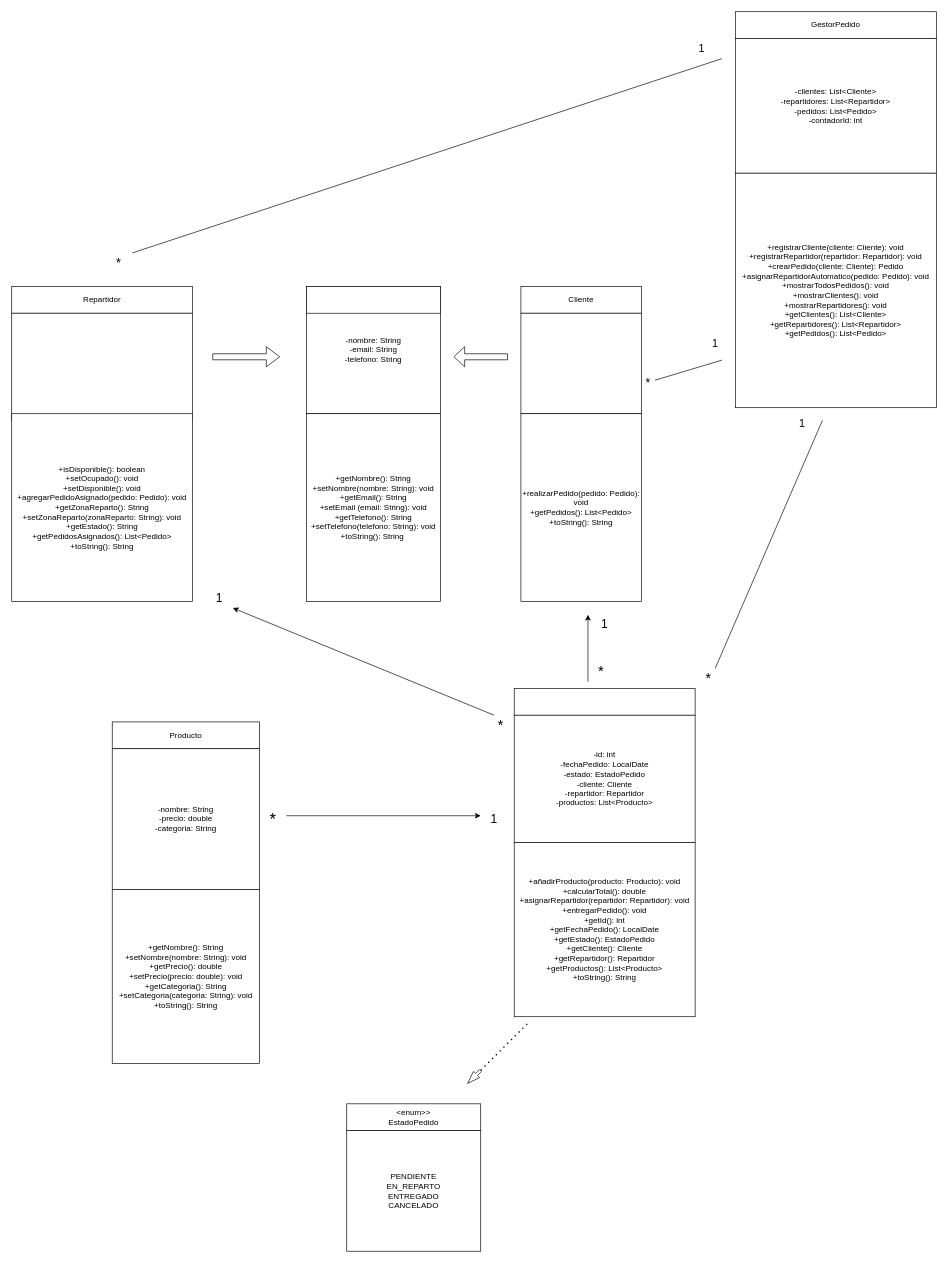
This 948x1263 diagram has some shape labels left out. Each missing label, with the centre of its shape:
-pedidos: List<Pedido>: (x=581, y=363)
-zonaReparto: String -estado: String -pedidosAsignados: List<Pedido>: (x=102, y=366)
Pedido: (x=604, y=701)
Usuario: (x=373, y=299)
